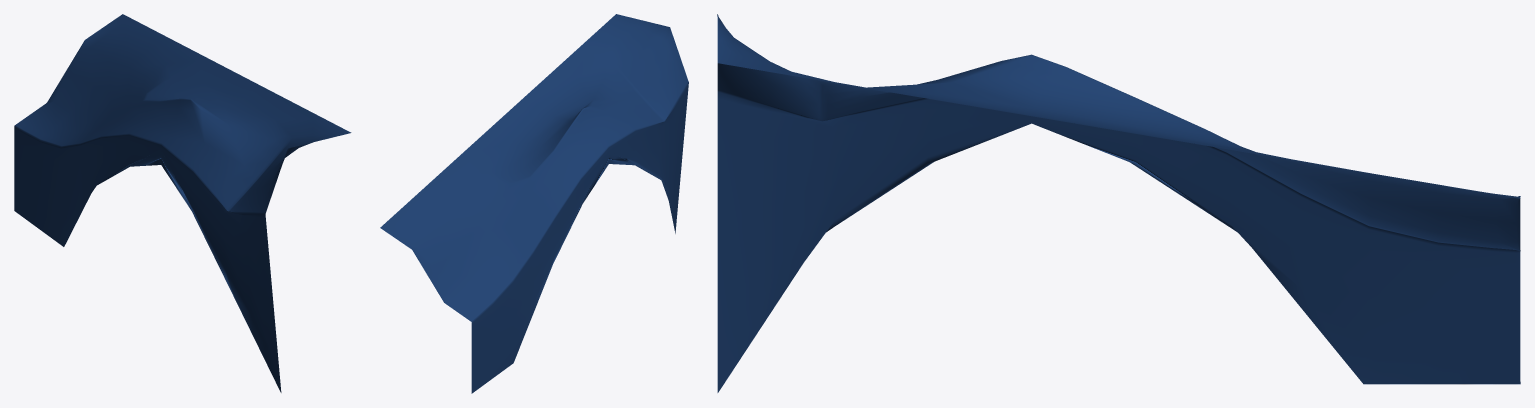
Rendered from front_right_fender.glb.
3 renders of one model, left to right at view 1: azimuth 30°, elevation 25°; view 2: azimuth 150°, elevation 25°; view 3: azimuth 270°, elevation 25°, orthographic. The views are drawn at different scales.
Visible parts, largest first — view 1: GEO_Fender_Front_Right; view 2: GEO_Fender_Front_Right; view 3: GEO_Fender_Front_Right.
Part boxes in pixels (x1=…): GEO_Fender_Front_Right: x1=14, y1=14, x2=351, y2=392; GEO_Fender_Front_Right: x1=380, y1=14, x2=688, y2=393; GEO_Fender_Front_Right: x1=717, y1=14, x2=1520, y2=392.
Size of the model in its own units: 0.365 by 0.7299 by 1.38.
